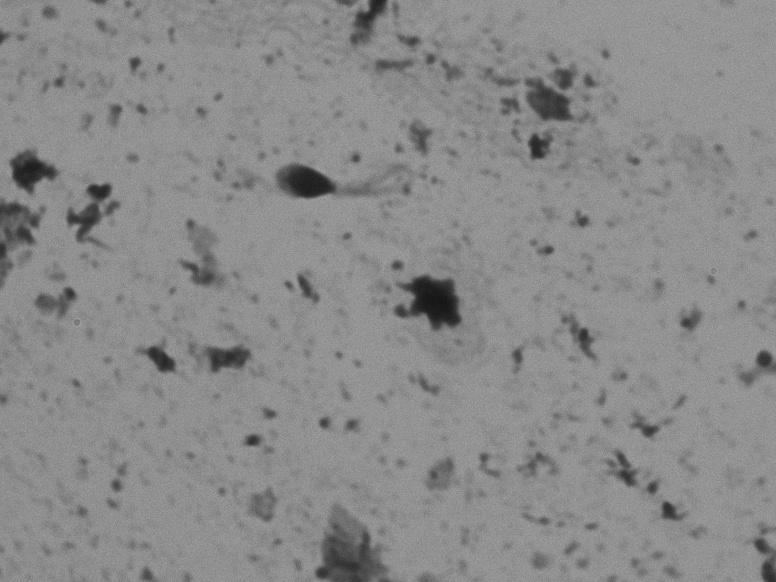Abnormal: (266, 130, 442, 231)
